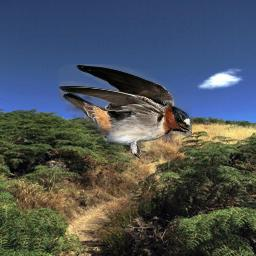Swallow: (59, 64, 192, 164)
